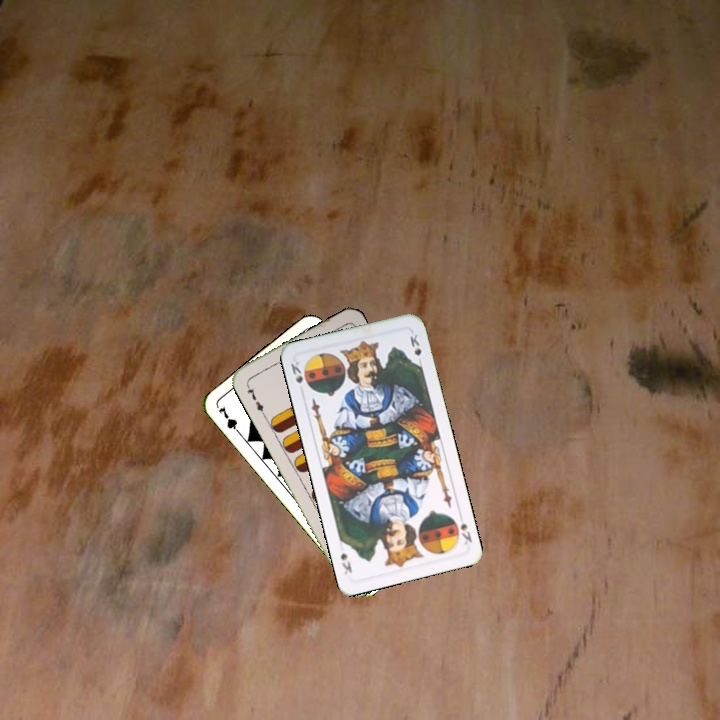E7: (242, 379, 267, 417)
G7: (214, 402, 244, 438)
SK: (287, 357, 312, 390), (455, 509, 475, 547)
